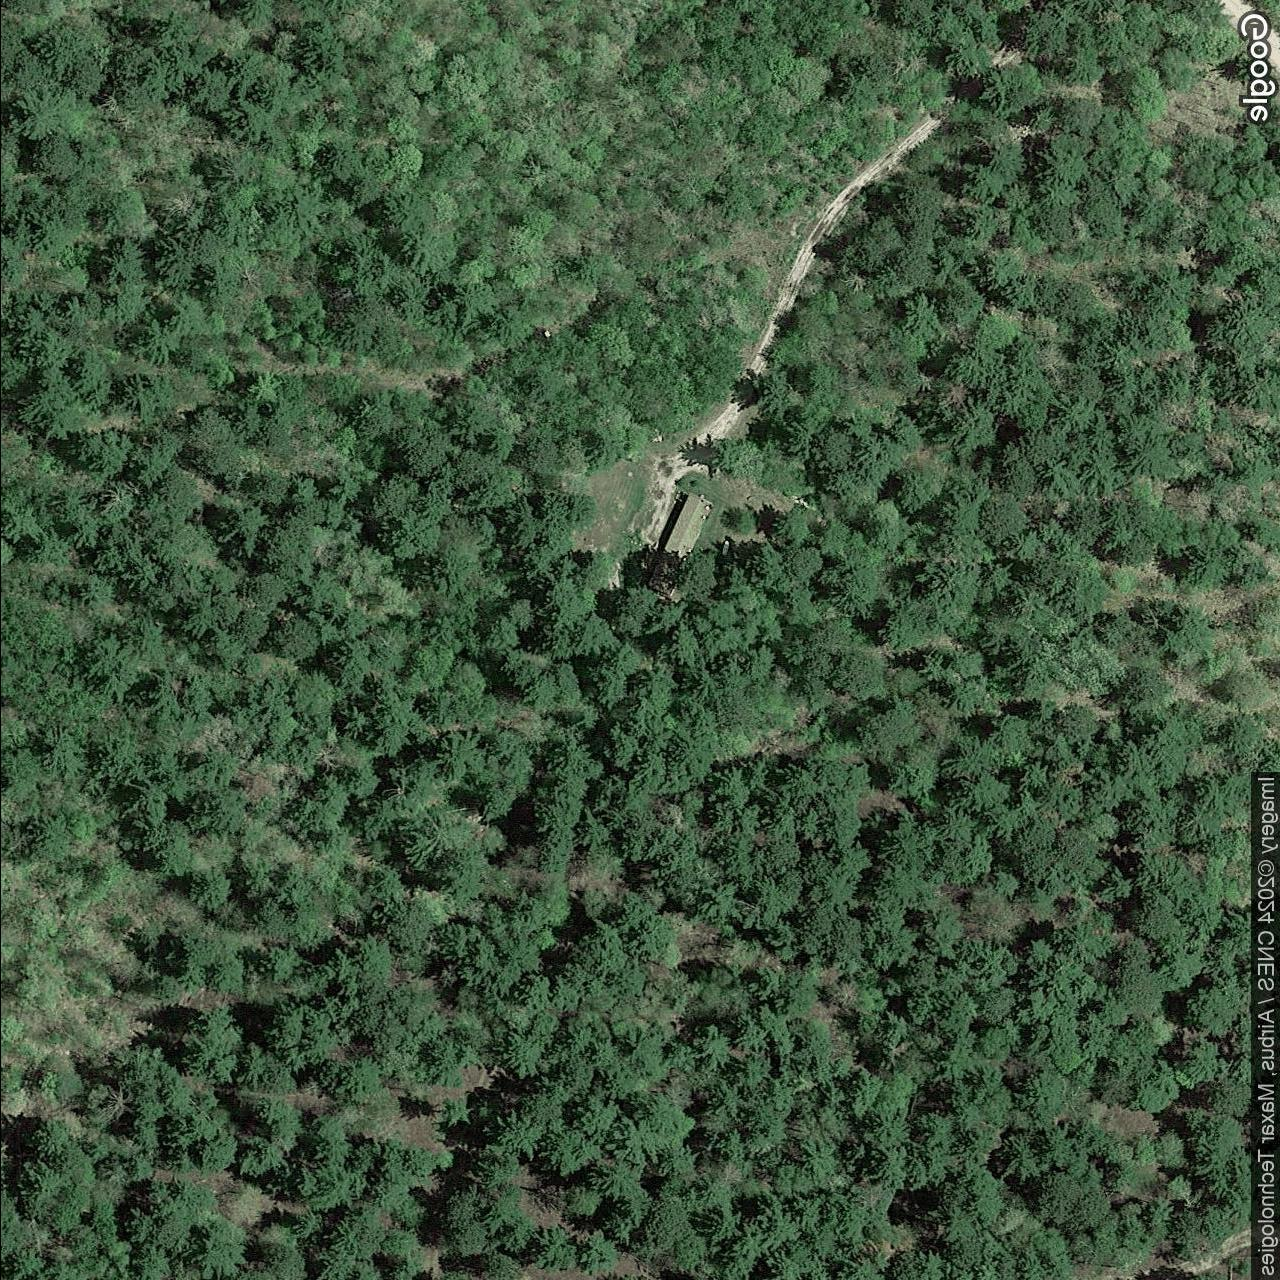Propane: (719, 538, 731, 557)
Trailer: (645, 492, 715, 598)
